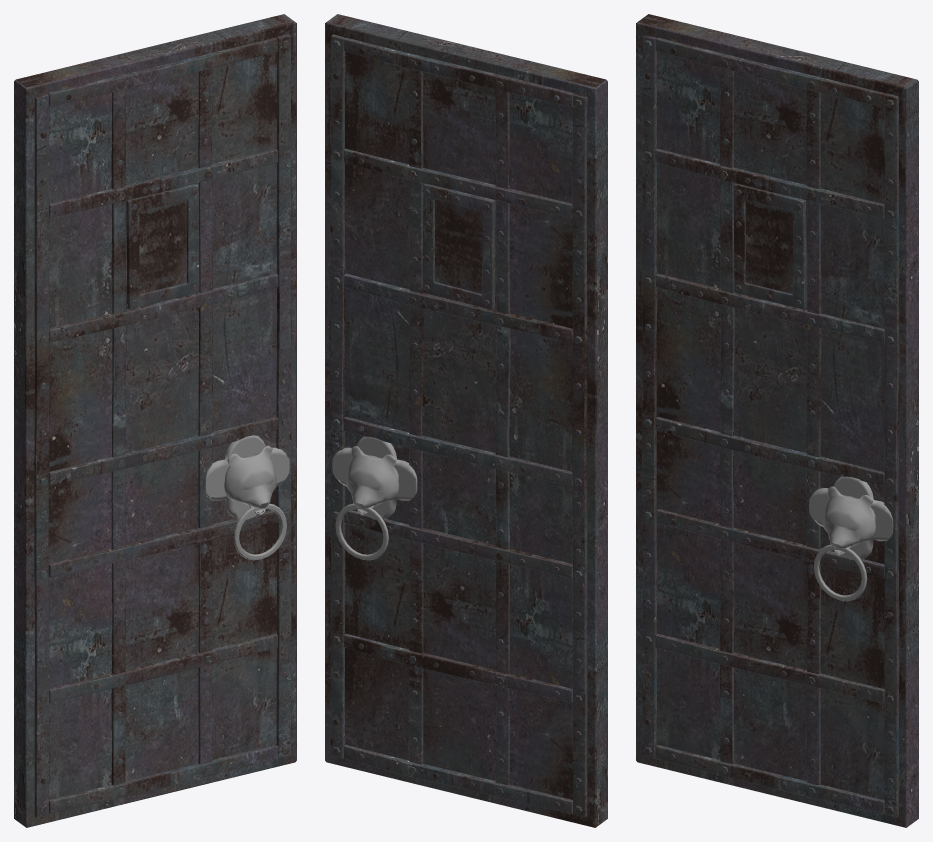
File: SM_DoorD_L.FBX
3 renders of one model, left to right at view 1: azimuth 30°, elevation 25°; view 2: azimuth 150°, elevation 25°; view 3: azimuth 330°, elevation 25°, orthographic.
Parts seen in each view (by area): view 1: SM_DoorD_L_LOD0; view 2: SM_DoorD_L_LOD0; view 3: SM_DoorD_L_LOD0.
Part boxes in pixels (box(x1,y1,x2,y2)): SM_DoorD_L_LOD0: box(14, 14, 296, 827); SM_DoorD_L_LOD0: box(325, 14, 607, 827); SM_DoorD_L_LOD0: box(636, 14, 918, 827).
Size of what is drawn, in the model's own units: 78 by 203 by 26.12.
